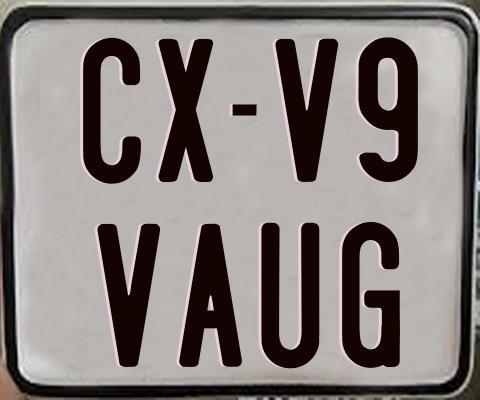9: (356, 35, 421, 181)
A: (176, 222, 240, 368)
C: (81, 38, 142, 186)
G: (340, 222, 404, 369)
U: (259, 221, 322, 371)
V: (275, 36, 342, 180), (94, 222, 158, 371)
X: (156, 38, 213, 181)
